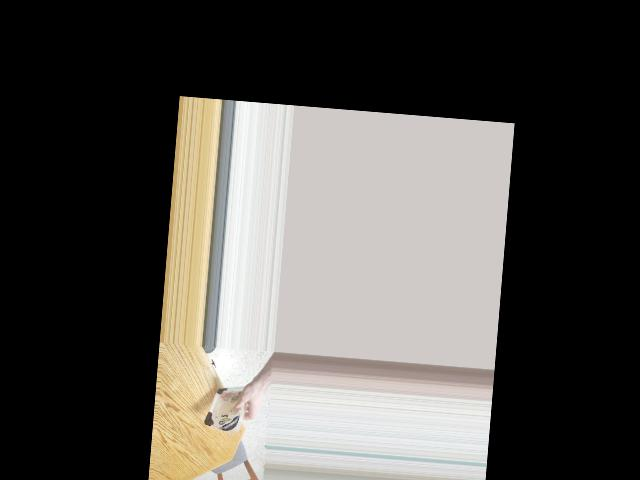cheese: (208, 381, 246, 435)
